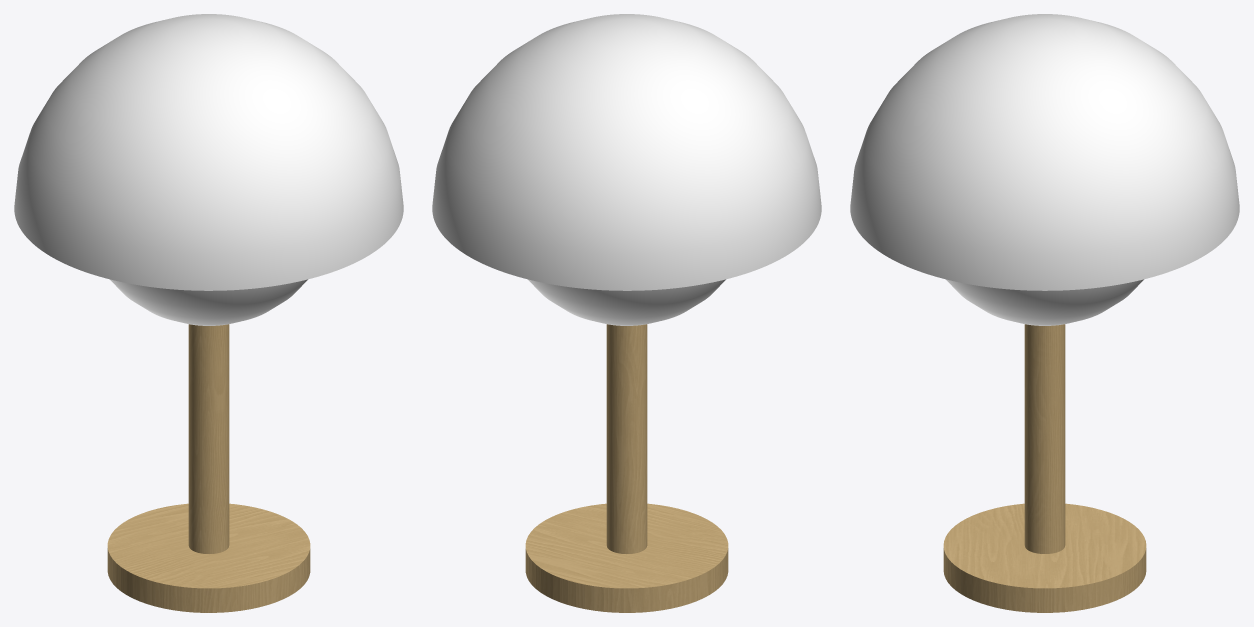
Rendered from WHITE_OFF.glb.
The picture shows the model from 3 angles, left to right: view 1: azimuth 30°, elevation 25°; view 2: azimuth 150°, elevation 25°; view 3: azimuth 270°, elevation 25°; orthographic projection.
Parts seen in each view (by area): view 1: DOME, BASE2, DOME2; view 2: DOME, BASE2, DOME2; view 3: DOME, BASE2, DOME2.
Part boxes in pixels (x1,y1,x2,y2): DOME: (14,14,403,290); BASE2: (107,324,310,612); DOME2: (110,279,307,325); DOME: (432,14,821,290); BASE2: (525,324,728,612); DOME2: (528,279,725,325); DOME: (850,14,1239,290); BASE2: (943,324,1146,612); DOME2: (946,279,1143,325).
Size of the model in its own units: 0.288 by 0.439 by 0.288.
3 materials, 3 textured.
